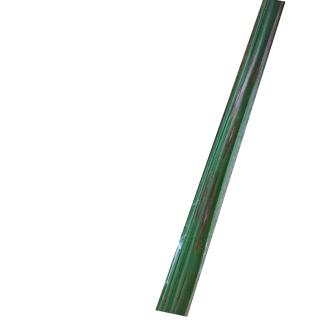Hawar-Daun: (182, 31, 276, 250)
